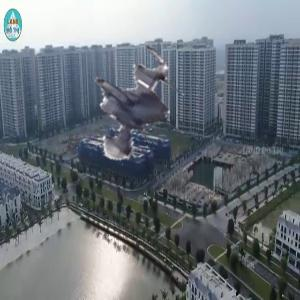drone: (84, 51, 219, 186)
